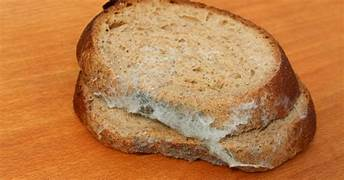bread: (52, 1, 335, 176)
